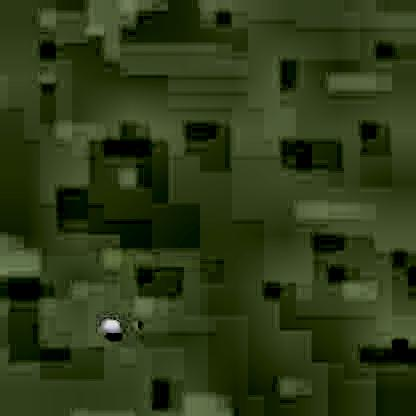golfball: (98, 314, 118, 336)
